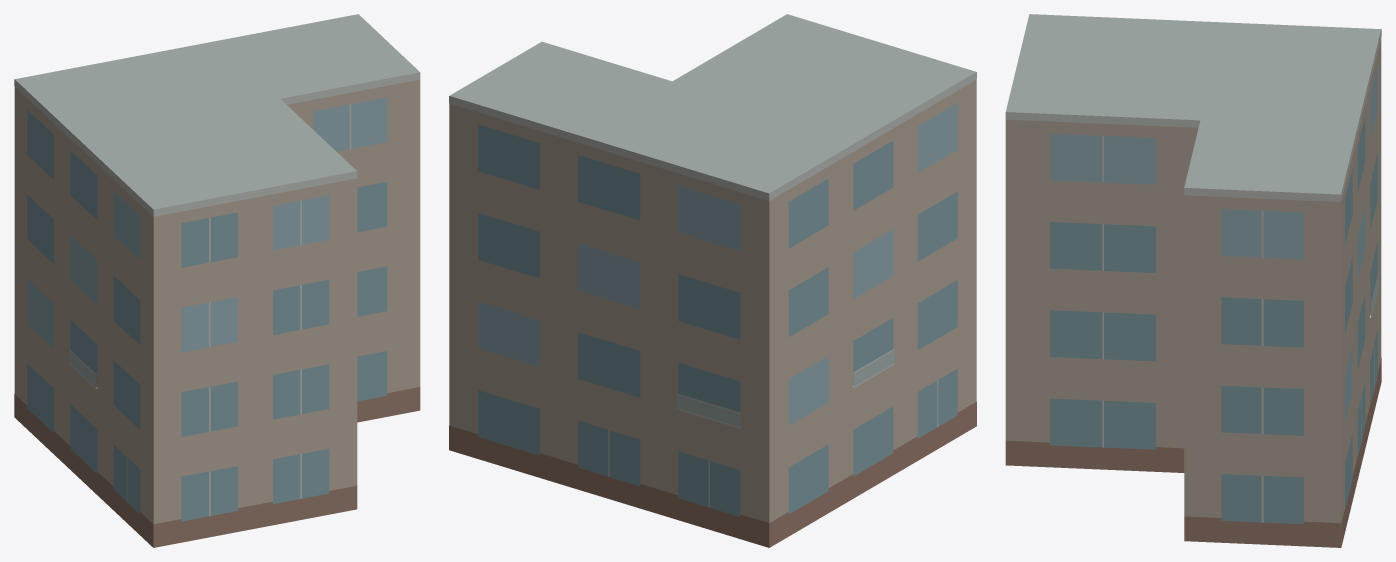
File: survey-upis-32938356.glb
The picture shows the model from 3 angles, left to right: view 1: azimuth 30°, elevation 25°; view 2: azimuth 150°, elevation 25°; view 3: azimuth 270°, elevation 25°; orthographic projection. The views are drawn at different scales.
Parts seen in each view (by area): view 1: survey-upis-32938356.tmp; view 2: survey-upis-32938356.tmp; view 3: survey-upis-32938356.tmp.
Part boxes in pixels (x1,y1,x2,y2): survey-upis-32938356.tmp: (14,14,420,547); survey-upis-32938356.tmp: (449,14,976,547); survey-upis-32938356.tmp: (1005,14,1381,547).
Bounding box in the file's own units: 12.5 × 11.4 × 11.
